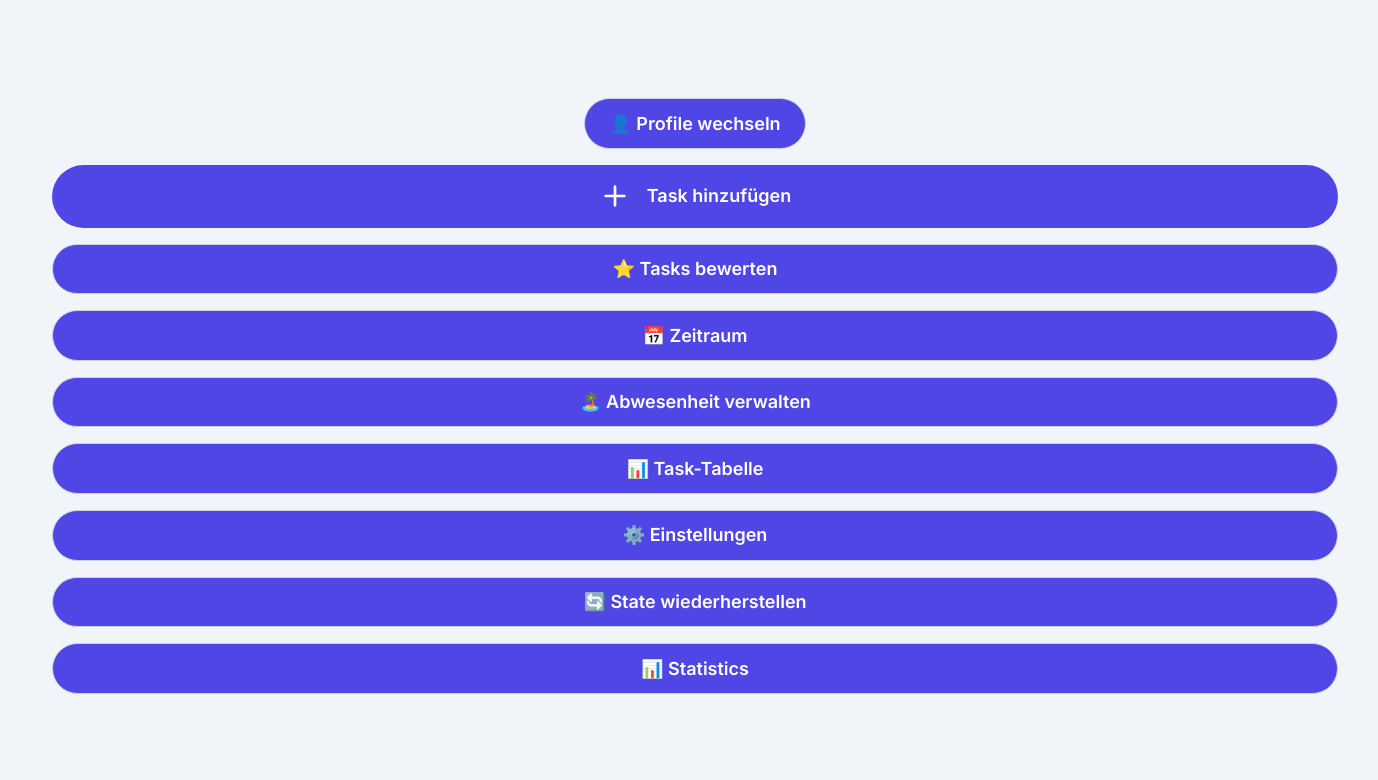
Absence Member Anzahl Varianten › funktioniert mit nur einem Mitglied
What coordinates should you click on to do the following:
click the button with test id "absence-management-btn"
I would click on:
 (695, 402)
Its box is [52,377,1338,427].
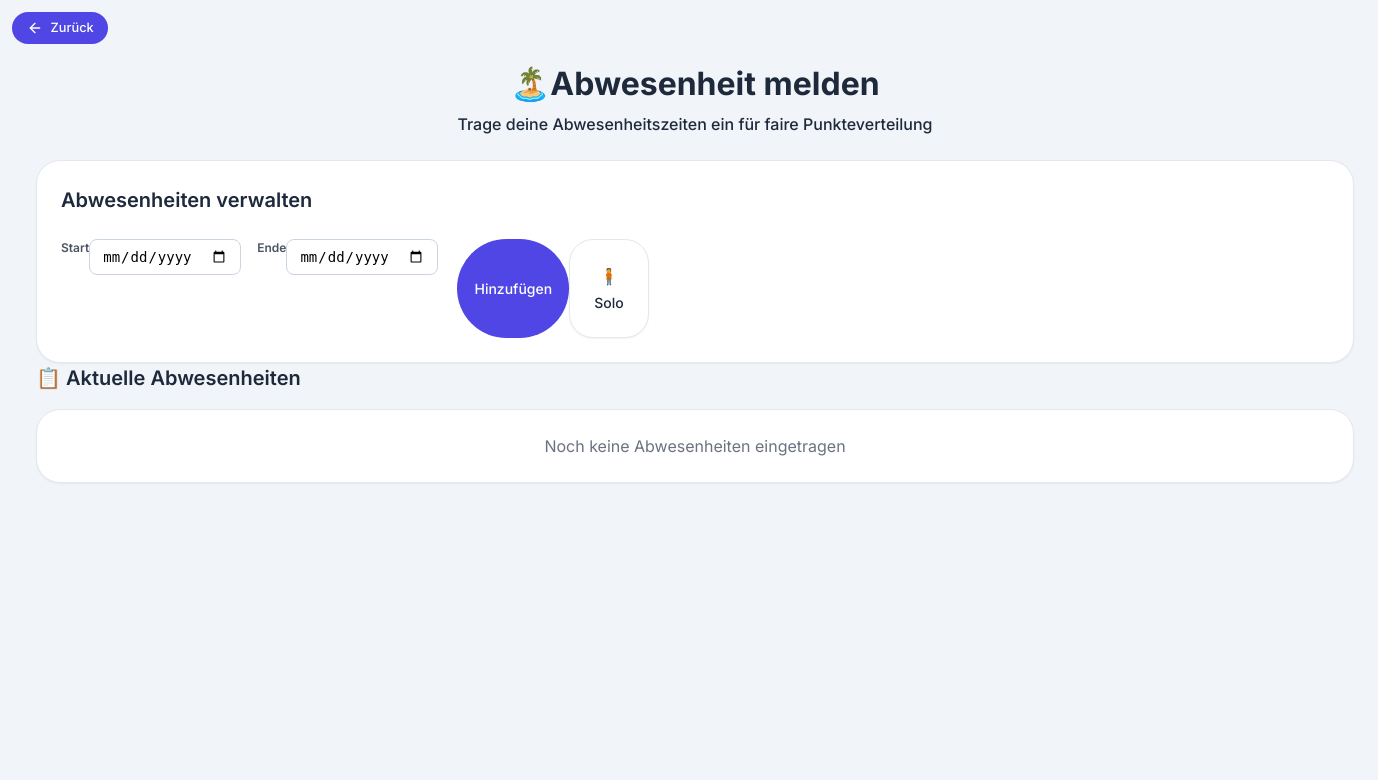
Expected: the element with test id "member-selection-cards" is shown, [569,239,649,338]
